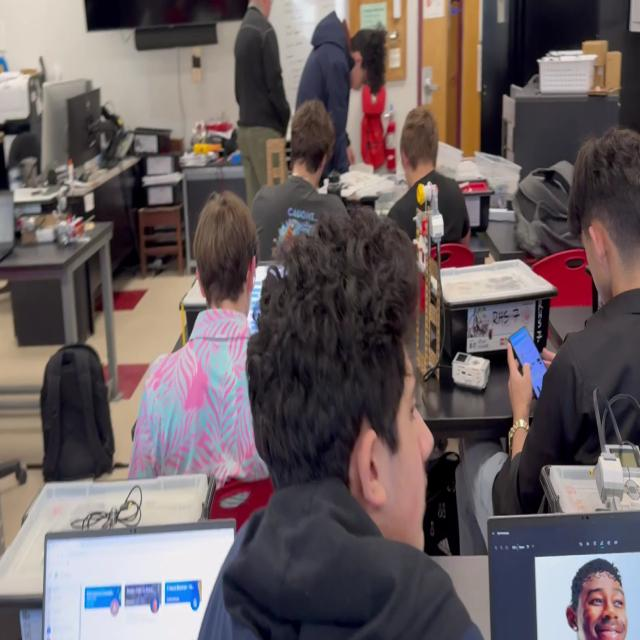pen: (508, 324, 553, 406)
